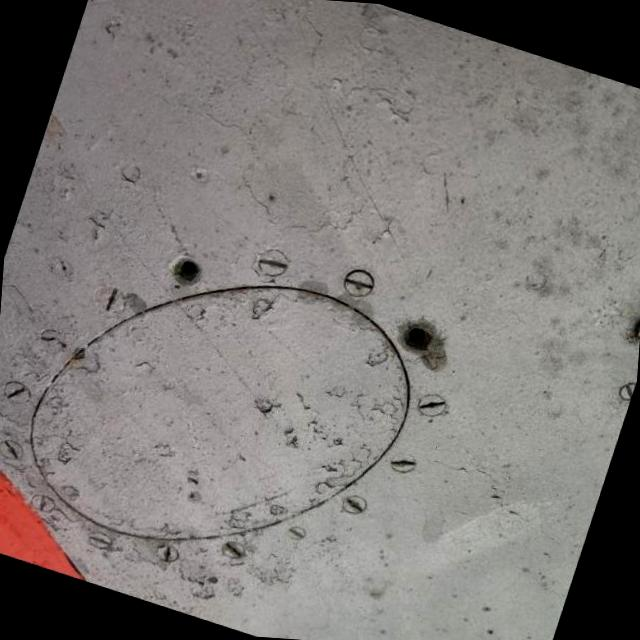Missing Fastener: (401, 316, 443, 354), (172, 254, 202, 284)
